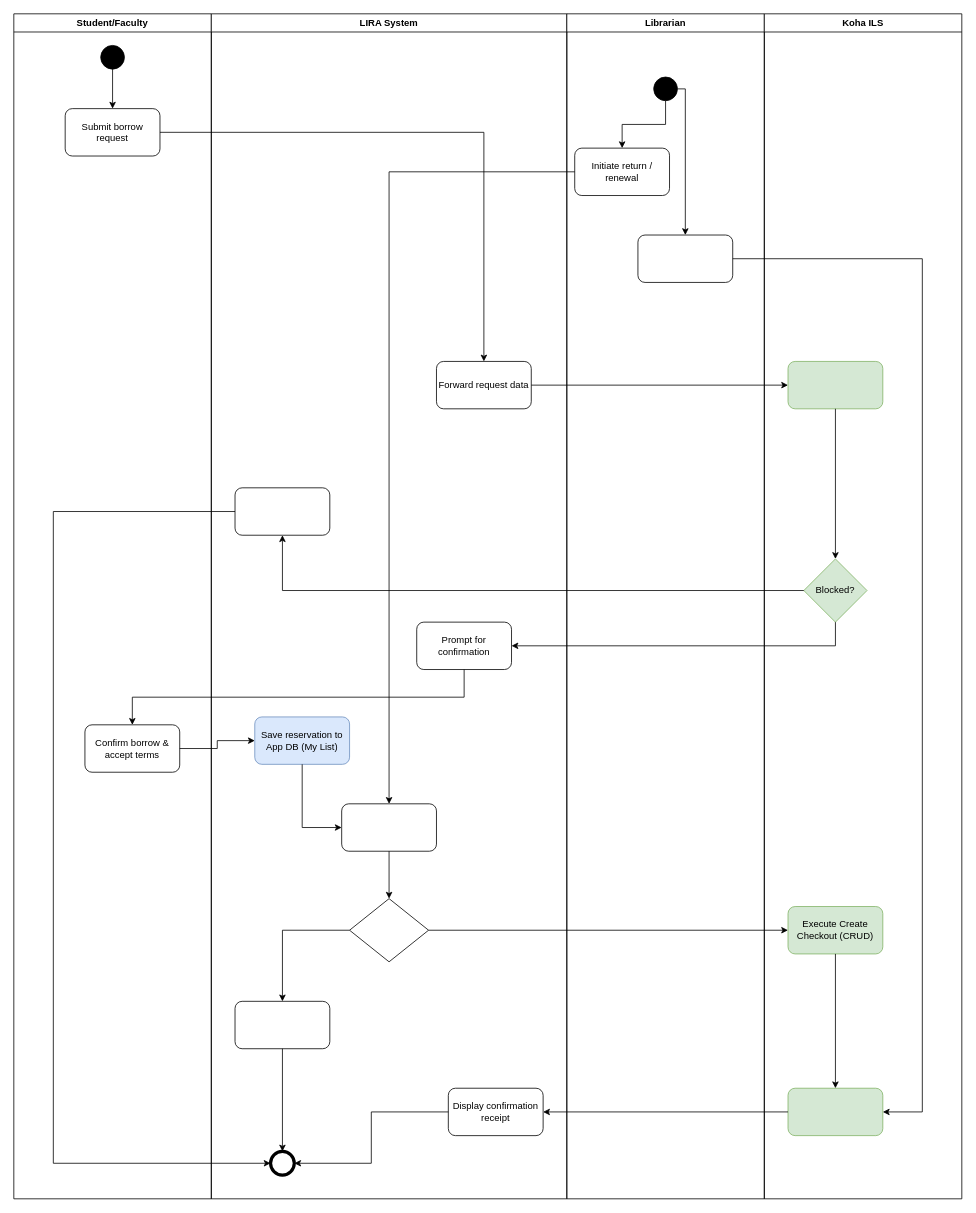
This 976x1213 diagram has some shape labels left out. The shapes that lost their labels are listed below. From the top down, each one's centre as x and y in pixels, then its label:
At point (685, 258): "Flag lost book".
At point (835, 385): "Verify account & limits".
At point (282, 511): "Deny request & show warning".
At point (388, 827): "Transmit transaction data".
At point (389, 930): "Koha reachable & item avail?".
At point (282, 1025): "Queue locally / notify user".
At point (835, 1111): "Execute Update Item Status (CRUD)".
